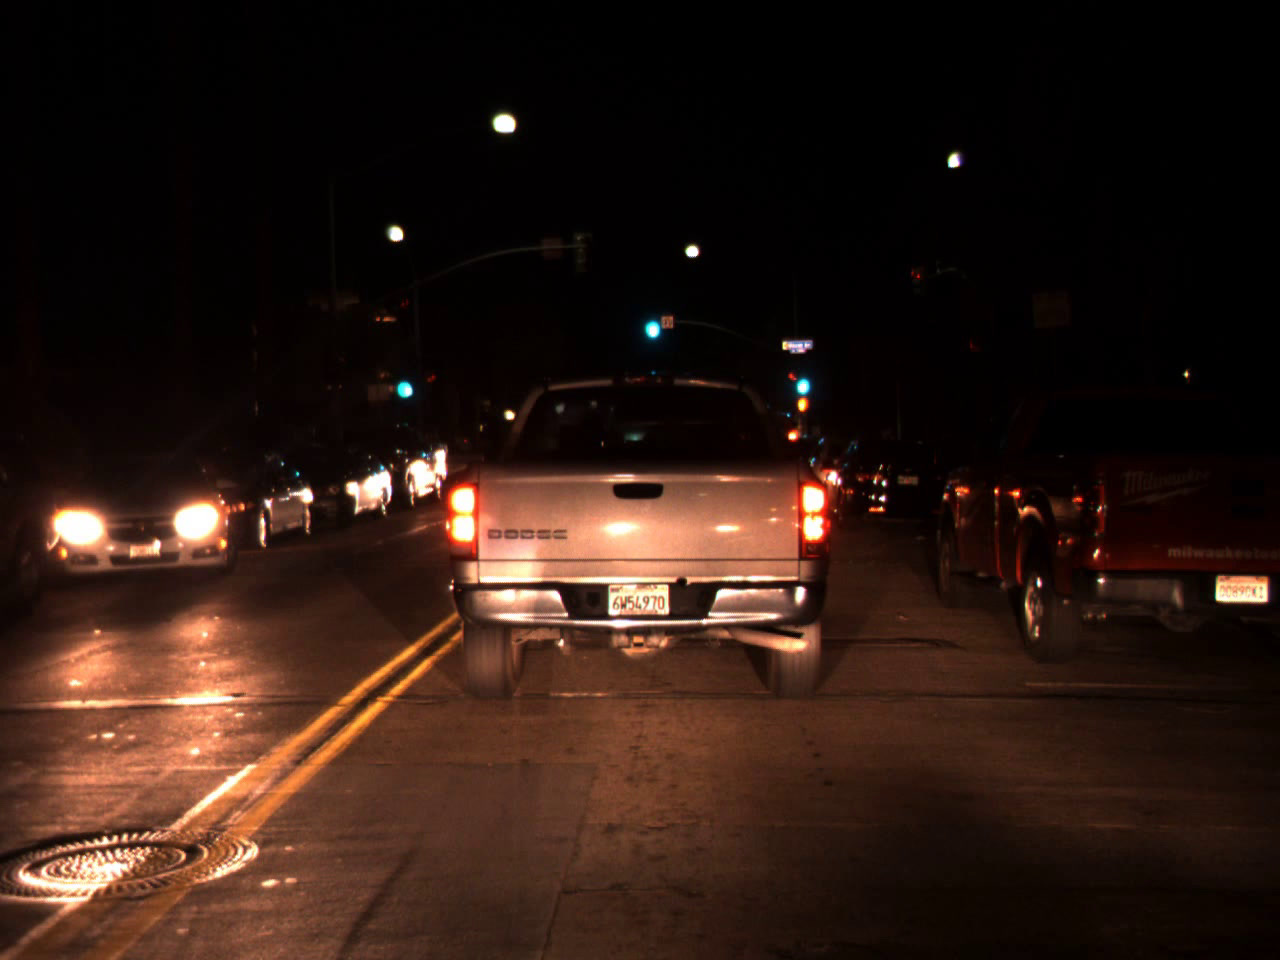go: (639, 301, 662, 343), (392, 363, 413, 402), (792, 359, 811, 401)
